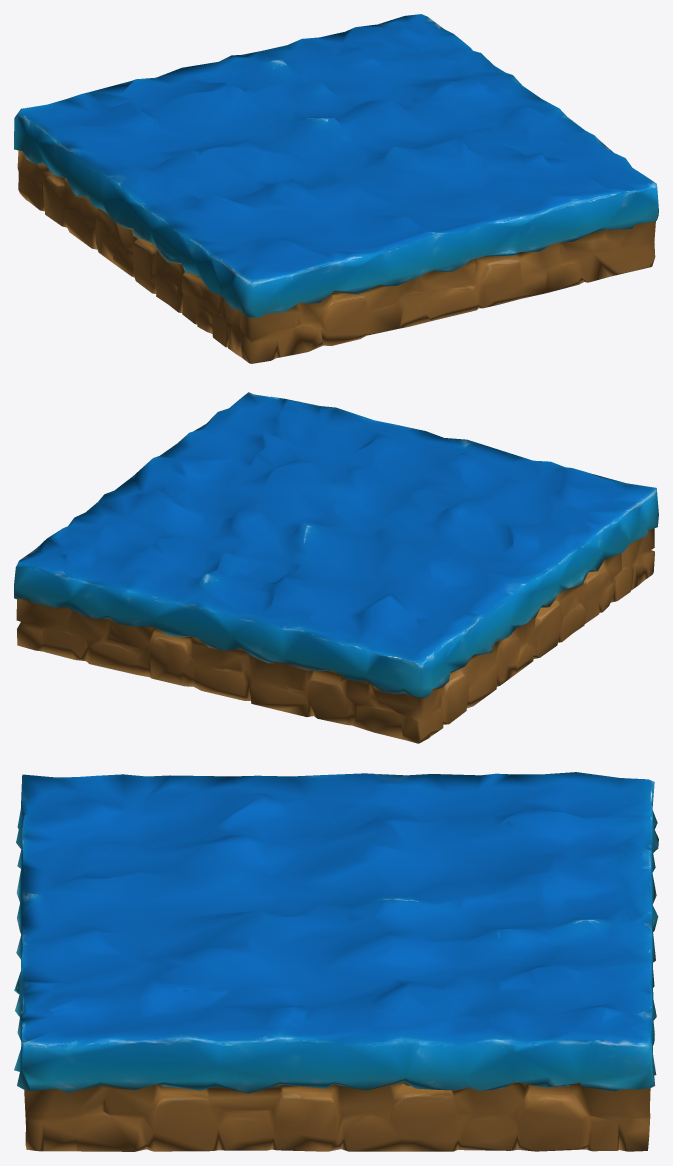
The model's file is ocean_tile.glb.
3 views of the same model, one above another, from view 1: azimuth 30°, elevation 25°; view 2: azimuth 150°, elevation 25°; view 3: azimuth 270°, elevation 25° (orthographic). The views are drawn at different scales.
Parts seen in each view (by area): view 1: tripo_node_0eb56b43-7b44-4859-b327-cffd9b283740; view 2: tripo_node_0eb56b43-7b44-4859-b327-cffd9b283740; view 3: tripo_node_0eb56b43-7b44-4859-b327-cffd9b283740.
Boxes of the visible parts, <box> form: tripo_node_0eb56b43-7b44-4859-b327-cffd9b283740: <box>14,14,658,363</box>; tripo_node_0eb56b43-7b44-4859-b327-cffd9b283740: <box>14,392,658,743</box>; tripo_node_0eb56b43-7b44-4859-b327-cffd9b283740: <box>14,772,658,1151</box>.
Size of the model in its own units: 1 by 0.2209 by 0.9995.
1 material, 1 textured.
